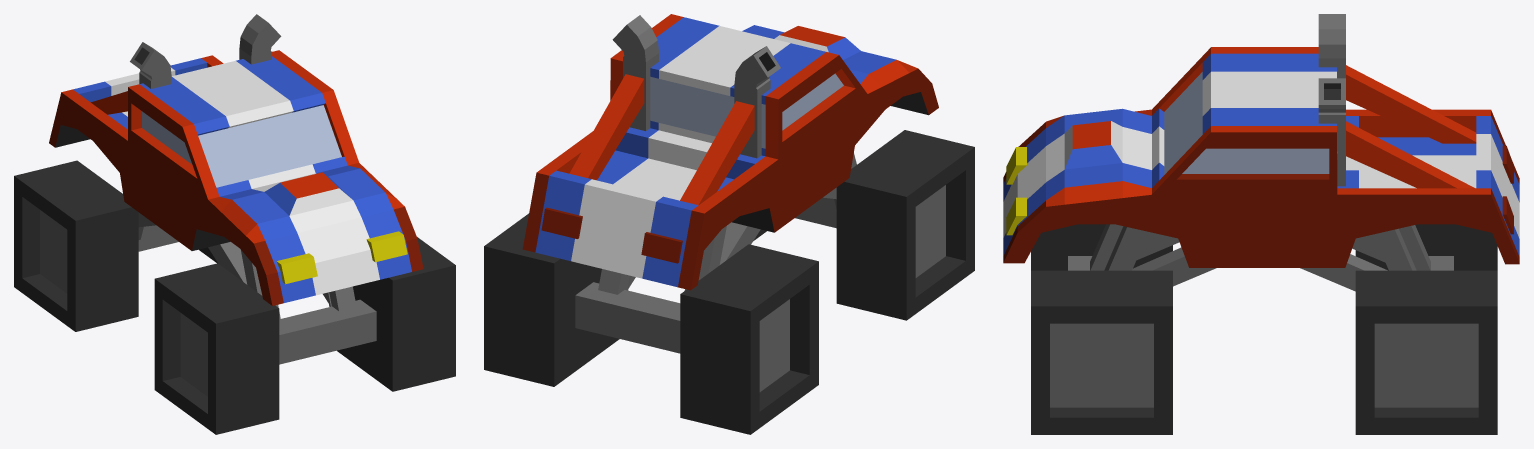
Rendered from car_8.fbx.
3 renders of one model, left to right at view 1: azimuth 30°, elevation 25°; view 2: azimuth 150°, elevation 25°; view 3: azimuth 270°, elevation 25°, orthographic. The views are drawn at different scales.
Parts seen in each view (by area): view 1: Cube; view 2: Cube; view 3: Cube.
Part boxes in pixels (x1,y1,x2,y2): Cube: [14, 14, 455, 434]; Cube: [484, 14, 974, 434]; Cube: [1003, 14, 1519, 434].
Size of the model in its own units: 232 by 257 by 375.
